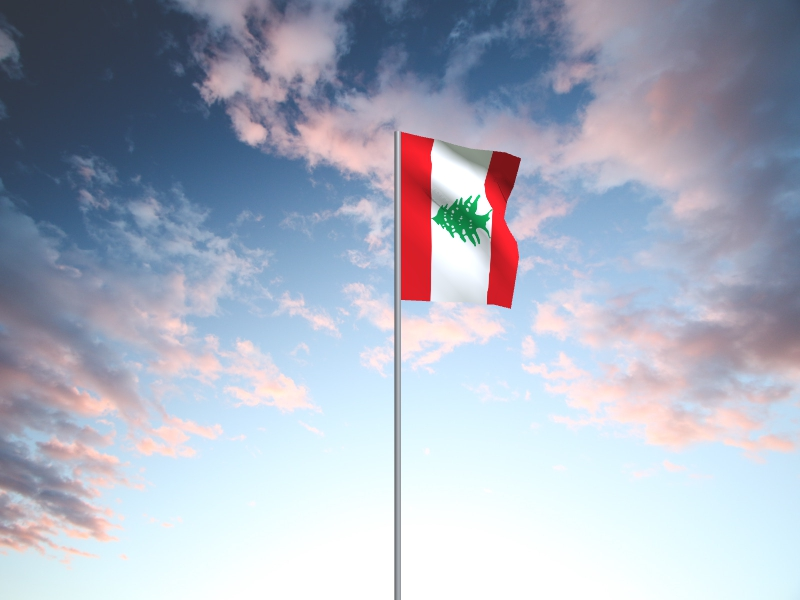lb: (402, 132, 523, 310)
